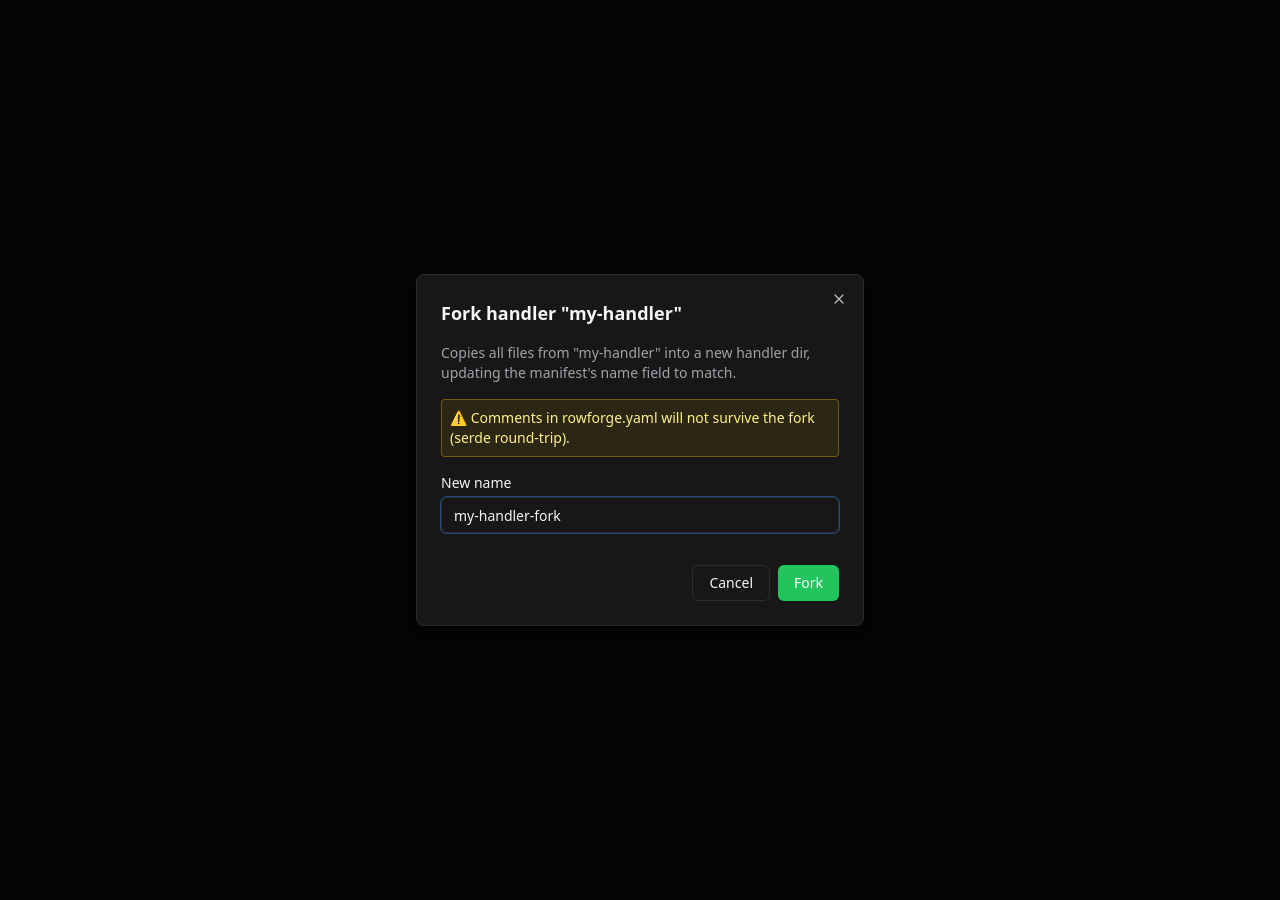
Test case: ForkHandlerDialog › disables the Fork button when name equals the source name
Replace the text in the field labelled "New name" with "my-handler": (640,515) [441, 497, 839, 533]
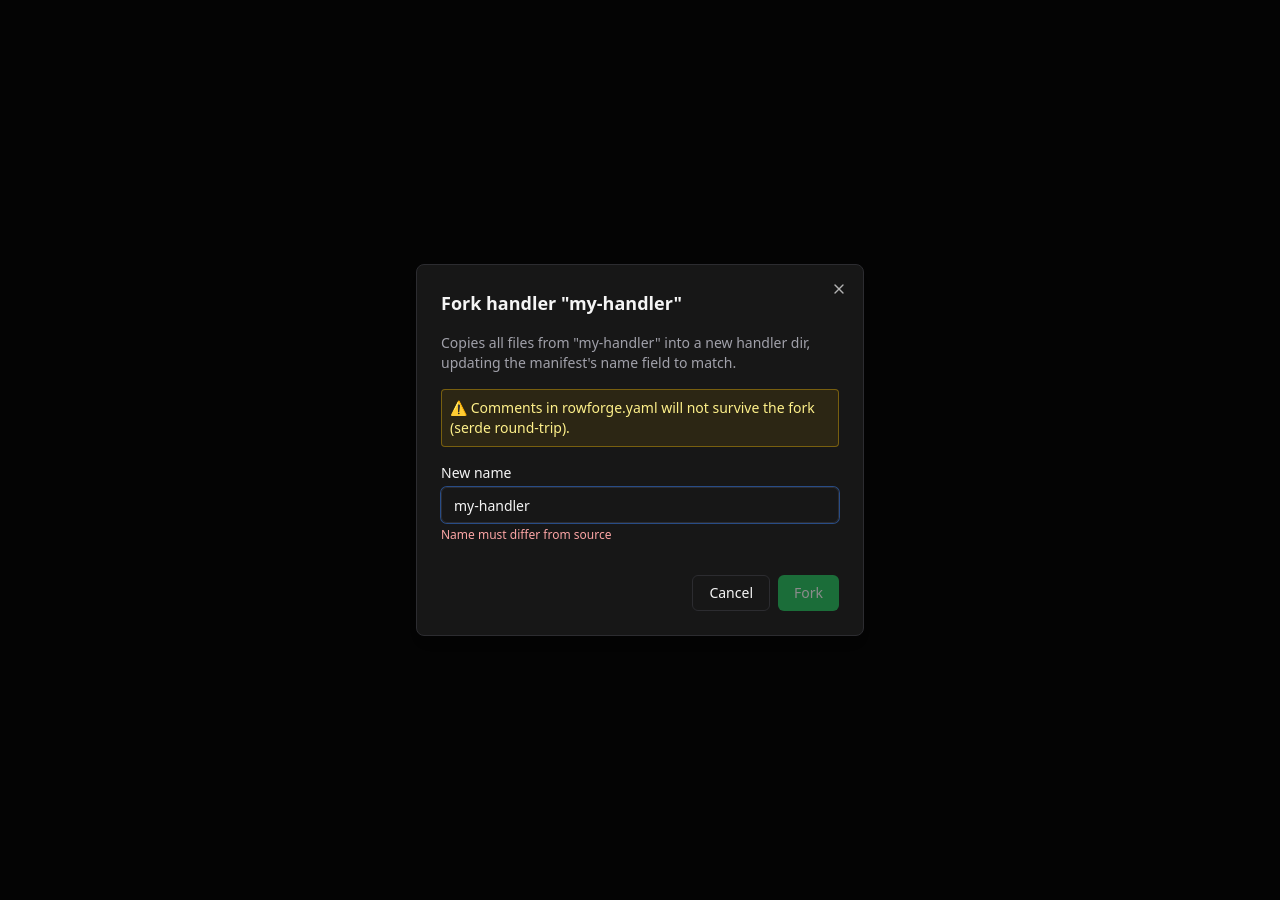
Result: the button "Fork" is disabled at [778, 575, 839, 611]
Result: the text "Name must differ from source" is shown at [441, 526, 612, 543]
